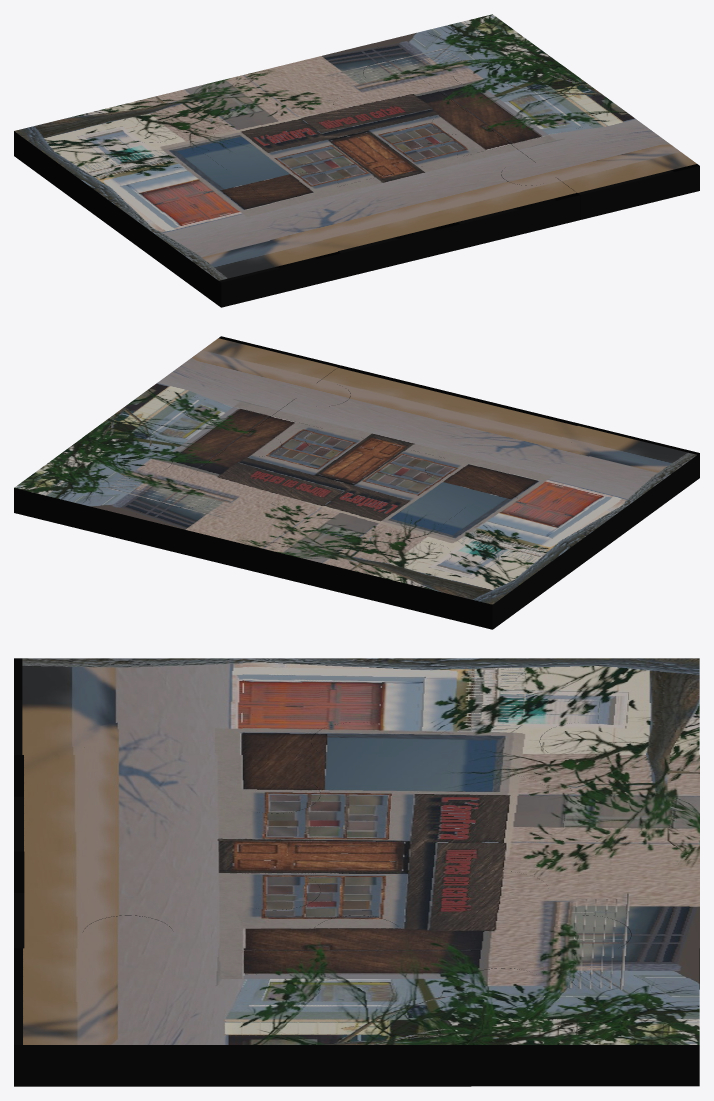
File: Puuzzle PAE_Final(4x3)_2.fbx
3 views of the same model, one above another, from view 1: azimuth 30°, elevation 25°; view 2: azimuth 150°, elevation 25°; view 3: azimuth 270°, elevation 25° (orthographic). The views are drawn at different scales.
Parts seen in each view (by area): view 1: Puzle 3_Pieza_12, Puzle 3_Pieza_9, Puzle 3_Pieza_11, Puzle 3_Pieza_10, Puzle 3_Pieza_8, Puzle 3_Pieza_5, Puzle 3_Pieza_6, Puzle 3_Pieza_7, Puzle 3_Pieza_4, Puzle 3_Pieza_1, Puzle 3_Pieza_3, Puzle 3_Pieza_2; view 2: Puzle 3_Pieza_4, Puzle 3_Pieza_1, Puzle 3_Pieza_3, Puzle 3_Pieza_2, Puzle 3_Pieza_12, Puzle 3_Pieza_9, Puzle 3_Pieza_10, Puzle 3_Pieza_11, Puzle 3_Pieza_8, Puzle 3_Pieza_5, Puzle 3_Pieza_6, Puzle 3_Pieza_7; view 3: Puzle 3_Pieza_12, Puzle 3_Pieza_8, Puzle 3_Pieza_4, Puzle 3_Pieza_11, Puzle 3_Pieza_10, Puzle 3_Pieza_9, Puzle 3_Pieza_7, Puzle 3_Pieza_6, Puzle 3_Pieza_3, Puzle 3_Pieza_5, Puzle 3_Pieza_2, Puzle 3_Pieza_1.
Part boxes in pixels (x1,y1,x2,y2): Puzle 3_Pieza_12: [501, 114, 699, 219]; Puzle 3_Pieza_9: [152, 201, 340, 307]; Puzle 3_Pieza_11: [381, 143, 579, 248]; Puzle 3_Pieza_10: [262, 172, 460, 278]; Puzle 3_Pieza_8: [432, 63, 630, 144]; Puzle 3_Pieza_5: [83, 151, 271, 256]; Puzle 3_Pieza_6: [193, 121, 390, 202]; Puzle 3_Pieza_7: [312, 92, 510, 173]; Puzle 3_Pieza_4: [363, 14, 561, 93]; Puzle 3_Pieza_1: [14, 102, 202, 206]; Puzle 3_Pieza_3: [243, 43, 441, 122]; Puzle 3_Pieza_2: [123, 72, 321, 152]; Puzle 3_Pieza_4: [14, 437, 212, 541]; Puzle 3_Pieza_1: [373, 525, 561, 629]; Puzle 3_Pieza_3: [133, 466, 332, 571]; Puzle 3_Pieza_2: [253, 496, 451, 600]; Puzle 3_Pieza_12: [152, 336, 350, 422]; Puzle 3_Pieza_9: [511, 424, 699, 528]; Puzle 3_Pieza_10: [392, 395, 589, 481]; Puzle 3_Pieza_11: [272, 365, 470, 452]; Puzle 3_Pieza_8: [83, 387, 281, 473]; Puzle 3_Pieza_5: [442, 474, 630, 578]; Puzle 3_Pieza_6: [322, 445, 520, 531]; Puzle 3_Pieza_7: [203, 416, 401, 502]; Puzle 3_Pieza_12: [14, 915, 320, 1086]; Puzle 3_Pieza_8: [242, 915, 548, 1086]; Puzle 3_Pieza_4: [471, 915, 699, 1086]; Puzle 3_Pieza_11: [14, 819, 320, 948]; Puzle 3_Pieza_10: [14, 722, 320, 851]; Puzle 3_Pieza_9: [14, 658, 320, 796]; Puzle 3_Pieza_7: [242, 819, 548, 948]; Puzle 3_Pieza_6: [242, 722, 548, 851]; Puzle 3_Pieza_3: [471, 819, 699, 989]; Puzle 3_Pieza_5: [242, 658, 548, 754]; Puzle 3_Pieza_2: [471, 722, 699, 851]; Puzle 3_Pieza_1: [471, 658, 699, 754].
Bounding box in the file's own units: 4002 × 200 × 3001.
Materials: 1 (1 with a texture image).
